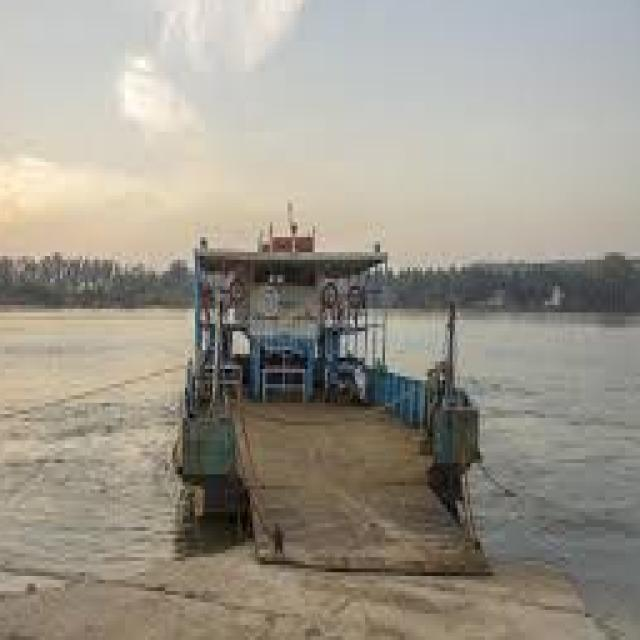fishing boat: (162, 195, 499, 500)
